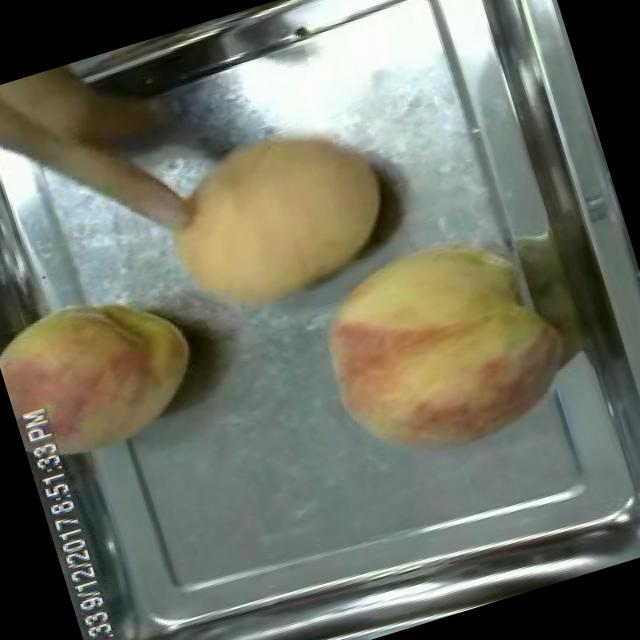Fruit: (289, 200, 587, 485), (137, 94, 417, 340), (0, 263, 219, 480)
